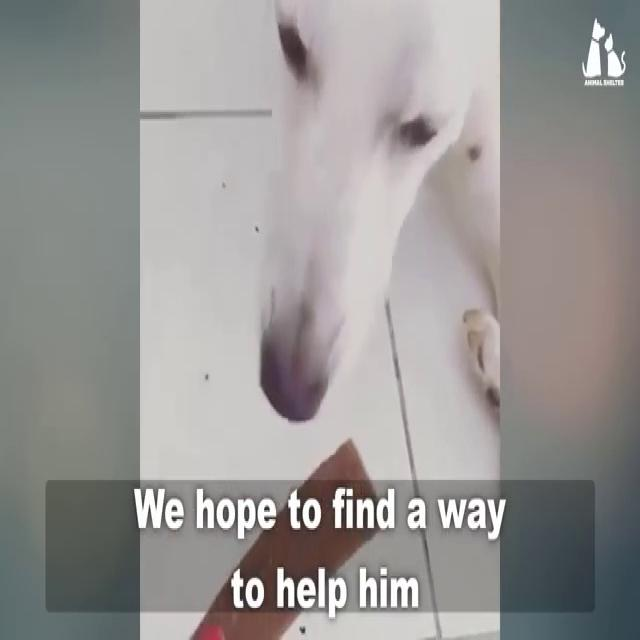injured-animals: (249, 2, 499, 430)
